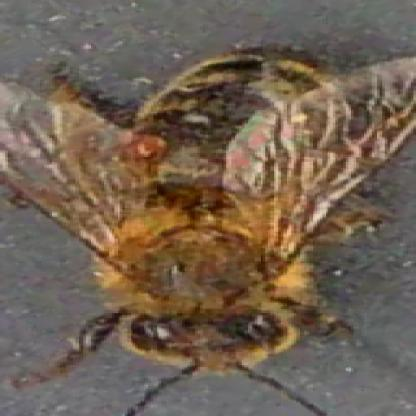bee: (31, 43, 360, 382)
vaoora: (123, 137, 169, 164)
